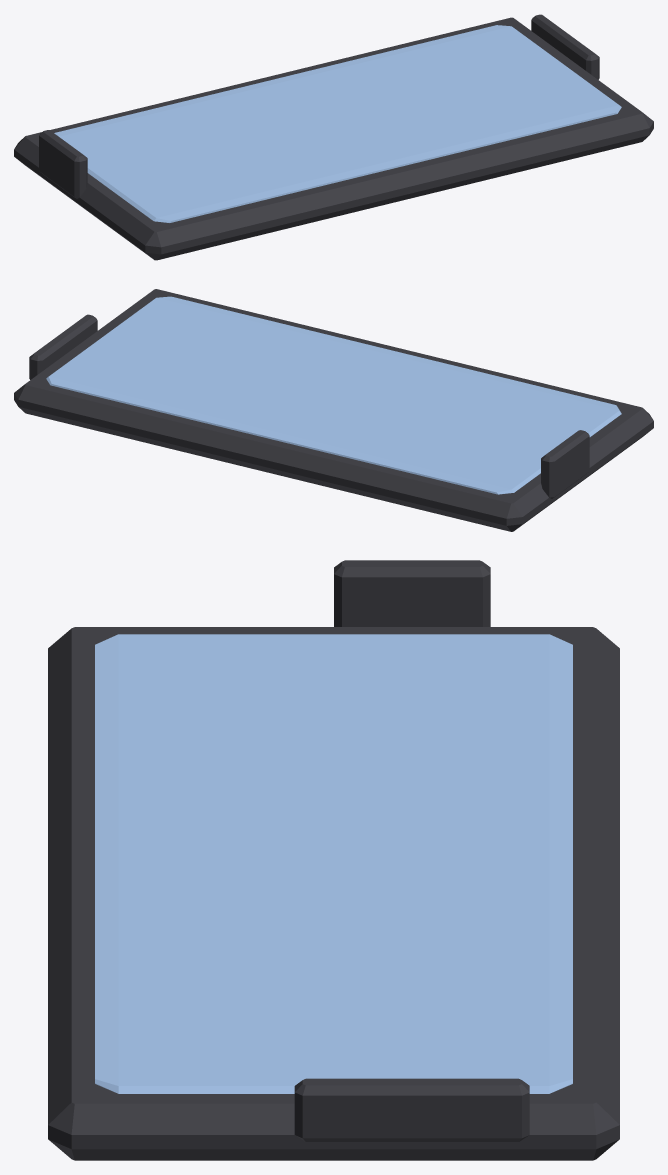
Rendered from computers-and-desk-gadgets-smartphone-61-9d832bea__38847.glb.
3 renders of one model, top to bottom at view 1: azimuth 30°, elevation 25°; view 2: azimuth 150°, elevation 25°; view 3: azimuth 270°, elevation 25°, orthographic. The views are drawn at different scales.
Parts seen in each view (by area): view 1: smartphone-61; view 2: smartphone-61; view 3: smartphone-61.
Part boxes in pixels (box(x1,y1,x2,y2)): smartphone-61: box(14, 14, 653, 260); smartphone-61: box(14, 289, 653, 531); smartphone-61: box(48, 560, 619, 1160).
Bounding box in the file's own units: 0.152 × 0.0218 × 0.073.
